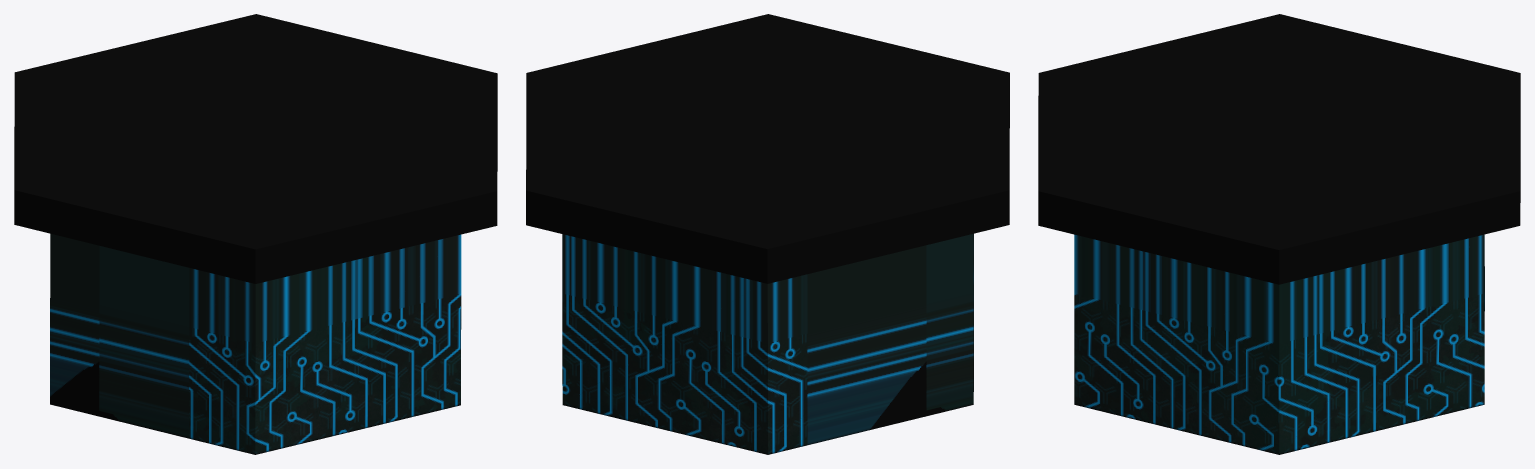
The model's file is PillarCaps_mesh.fbx.
3 views of the same model, side by side, from view 1: azimuth 30°, elevation 25°; view 2: azimuth 150°, elevation 25°; view 3: azimuth 270°, elevation 25° (orthographic).
Visible parts, largest first — view 1: PillarCaps_mesh; view 2: PillarCaps_mesh; view 3: PillarCaps_mesh.
Part boxes in pixels (x1,y1,x2,y2): PillarCaps_mesh: (14, 14, 497, 454); PillarCaps_mesh: (526, 14, 1009, 454); PillarCaps_mesh: (1038, 14, 1520, 454).
Bounding box in the file's own units: 680 × 301 × 589.
